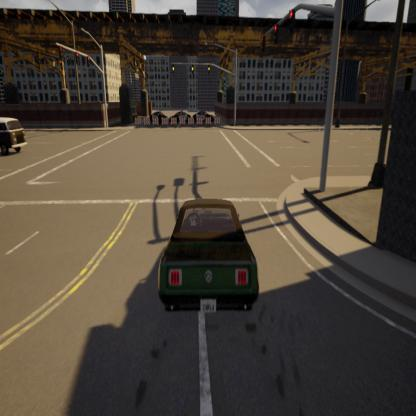Cars: (149, 164, 266, 354), (0, 92, 47, 182)
